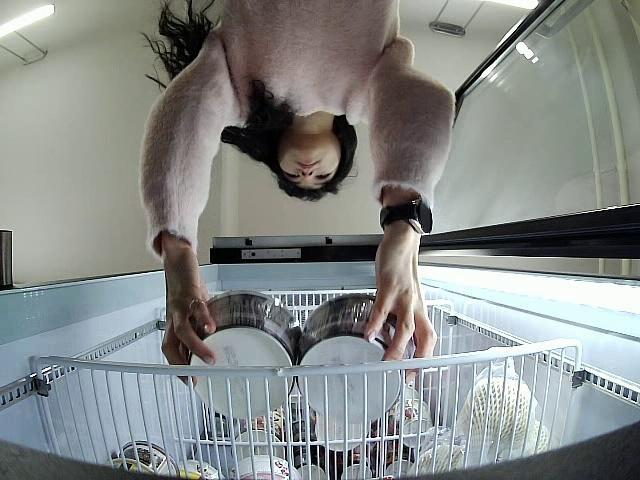07_buldak_L: (292, 291, 416, 425), (188, 290, 298, 420)
